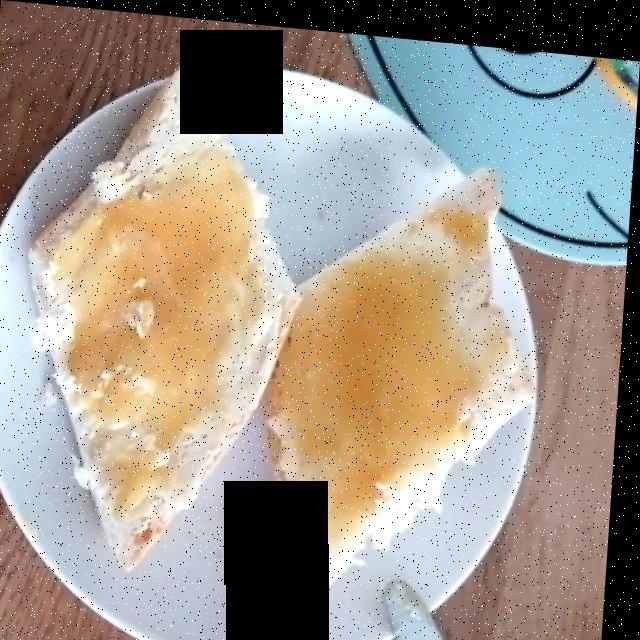bread: (17, 44, 541, 598)
butter: (105, 314, 154, 435)
honey: (70, 180, 465, 505)
